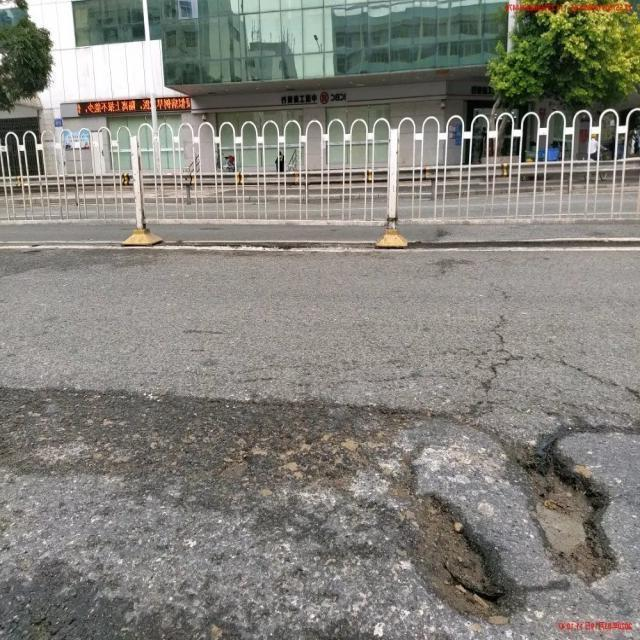pothole: (398, 480, 518, 623), (520, 434, 613, 588)
